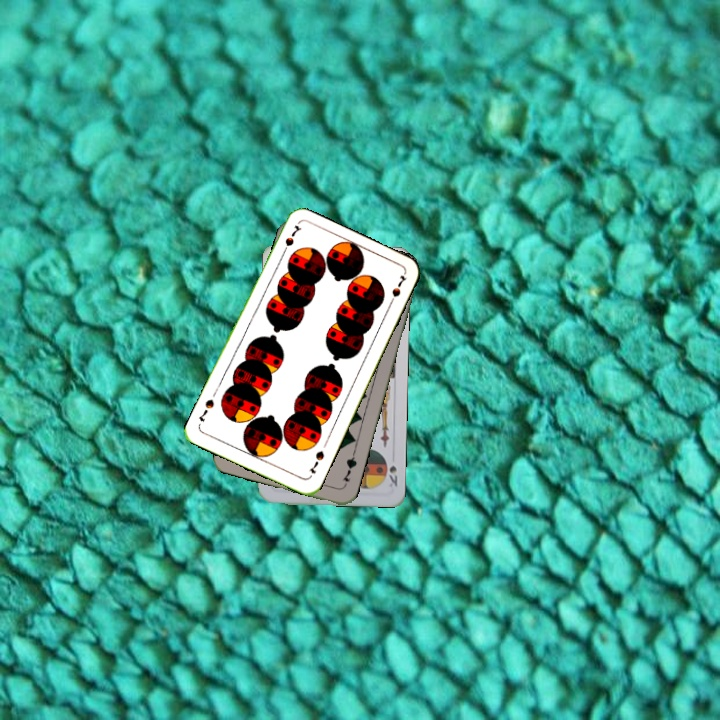G7: (338, 450, 360, 484)
S7: (277, 221, 303, 259), (305, 446, 327, 476)
SK: (385, 461, 400, 489)
